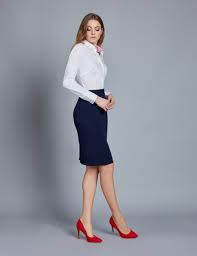F_tailored skirt: (70, 88, 119, 169)
